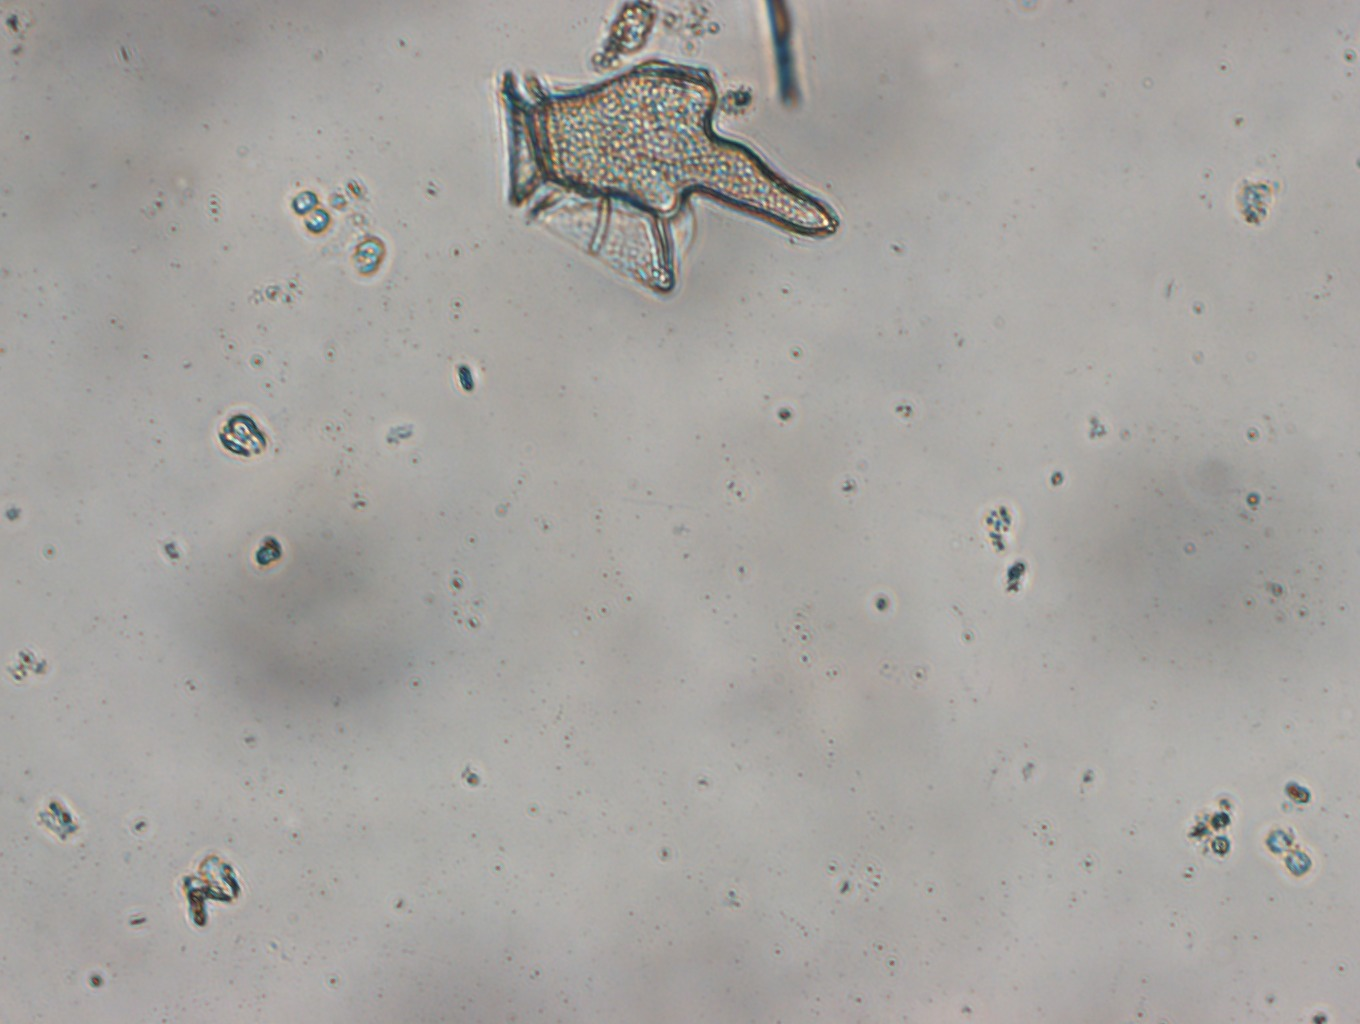dinophysis caudata: (475, 47, 845, 311)
